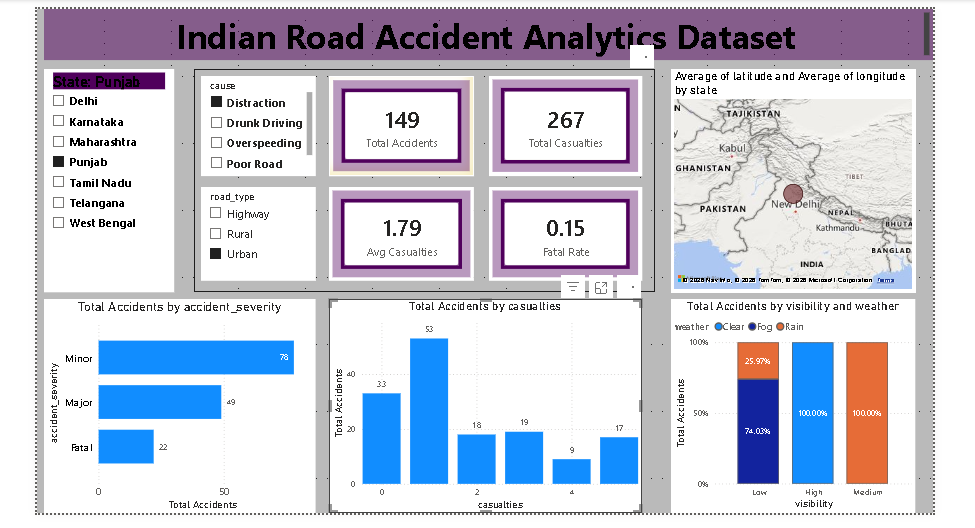

This screenshot's page, from the dashboard's own definition file:
{"tool":"powerbi","page":{"name":"Page 1","canvas":[1280,720],"ordinal":0},"visuals":[{"type":"textbox","box":[10,0,1270,72.9],"z":0},{"type":"slicer","fields":{"Values":["accidents.state"]},"box":[10,85.7,185.7,318.6],"z":1000},{"type":"shape","box":[224.3,85.7,658.6,318.6],"z":2000},{"type":"cardVisual","fields":{"Data":["accidents.Total Accidents"]},"box":[417.1,95.7,207.1,142.9],"z":3000},{"type":"cardVisual","fields":{"Data":["accidents.Avg Casualties"]},"box":[417.1,254.3,207.1,134.3],"z":4000},{"type":"cardVisual","fields":{"Data":["accidents.Fatal Rate"]},"box":[645.7,254.3,218.6,134.3],"z":5000},{"type":"cardVisual","fields":{"Data":["accidents.Total Casualties"]},"box":[645.7,95.7,218.6,142.9],"z":6000},{"type":"slicer","fields":{"Values":["accidents.cause"]},"box":[234.3,95.7,164.3,142.9],"z":7000},{"type":"slicer","fields":{"Values":["accidents.road_type"]},"box":[234.3,254.3,164.3,134.3],"z":8000},{"type":"map","fields":{"Category":["accidents.state"],"Y":["Avg(accidents.latitude)"],"X":["Avg(accidents.longitude)"]},"box":[905.7,86.3,349.2,318.6],"z":9000},{"type":"clusteredBarChart","fields":{"Category":["accidents.accident_severity"],"Y":["accidents.Total Accidents"]},"box":[9.7,414.6,388.2,306.1],"z":10000},{"type":"clusteredColumnChart","fields":{"Category":["accidents.casualties"],"Y":["accidents.Total Accidents"]},"box":[417.4,414.6,446.6,306.1],"z":11000},{"type":"hundredPercentStackedColumnChart","fields":{"Category":["accidents.visibility"],"Y":["accidents.Total Accidents"],"Series":["accidents.weather"]},"box":[905.7,414.6,349.2,306.1],"z":12000}]}

Visuals, with their boxes in screenshot pixels (x1, y1, x2, y2):
textbox: bbox=(43, 5, 929, 56)
slicer - accidents.state: bbox=(43, 65, 172, 287)
shape: bbox=(192, 65, 652, 287)
cardVisual - accidents.Total Accidents: bbox=(327, 72, 471, 172)
cardVisual - accidents.Avg Casualties: bbox=(327, 183, 471, 276)
cardVisual - accidents.Fatal Rate: bbox=(486, 183, 639, 276)
cardVisual - accidents.Total Casualties: bbox=(486, 72, 639, 172)
slicer - accidents.cause: bbox=(199, 72, 314, 172)
slicer - accidents.road_type: bbox=(199, 183, 314, 276)
map - accidents.state x Avg(accidents.latitude): bbox=(667, 65, 911, 288)
clusteredBarChart - accidents.accident_severity x accidents.Total Accidents: bbox=(42, 294, 313, 508)
clusteredColumnChart - accidents.casualties x accidents.Total Accidents: bbox=(327, 294, 638, 508)
hundredPercentStackedColumnChart - accidents.visibility x accidents.Total Accidents: bbox=(667, 294, 911, 508)
